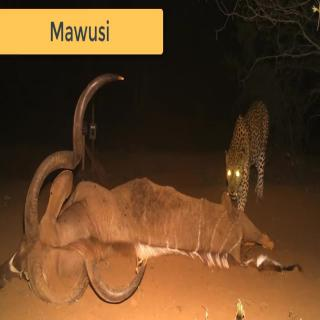Leopard: (224, 96, 270, 205)
